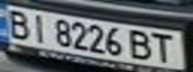2: (84, 21, 109, 55), (66, 19, 90, 52)
6: (103, 25, 127, 57)
8: (48, 16, 72, 48)
B: (124, 27, 157, 62), (3, 7, 33, 39)
I: (24, 11, 51, 43)
T: (148, 30, 181, 64)
